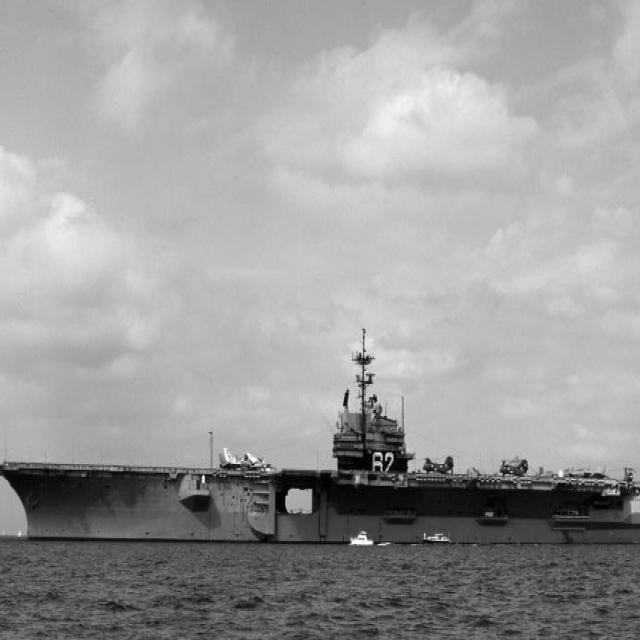Portanaves: (1, 323, 640, 547)
